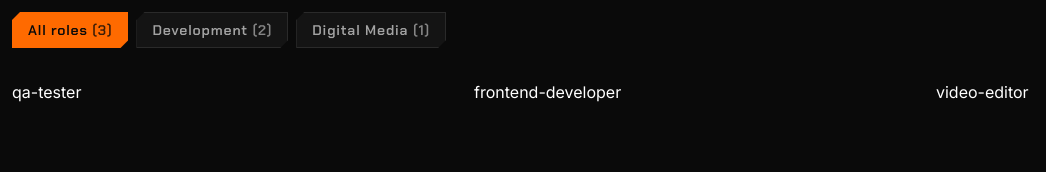
it: RolesExplorer › shows all roles, then filters by category
Check: the number of list items is 3, box [12, 82, 81, 102]; [474, 82, 621, 102]; [936, 82, 1029, 102]
Click the button "Digital Media (1)" at coordinates (371, 30), box [296, 12, 446, 48]
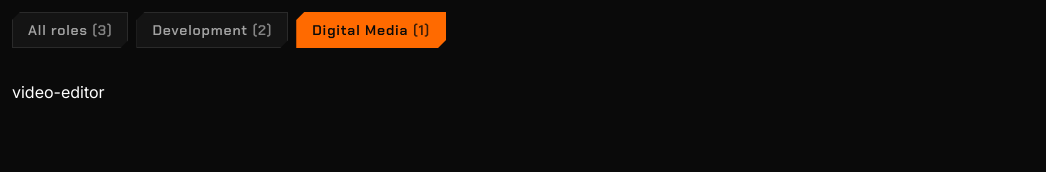
Check: the number of list items is 1, box [12, 82, 105, 102]
Click the button "All roles (3)" at coordinates (70, 30), box [12, 12, 128, 48]
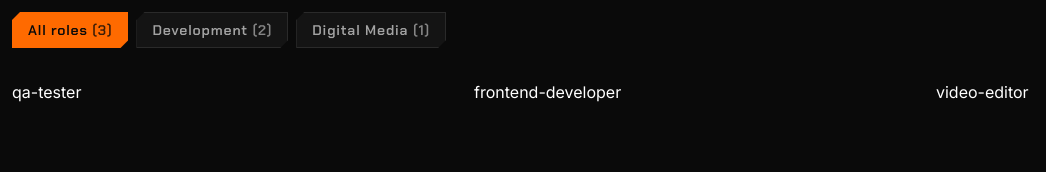
Check: the number of list items is 3, box [12, 82, 81, 102]; [474, 82, 621, 102]; [936, 82, 1029, 102]
